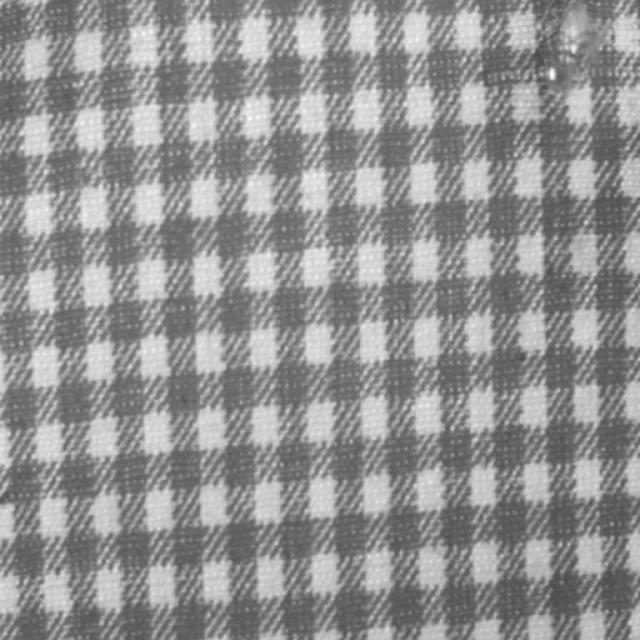Hole-Defect: (534, 0, 608, 98)
